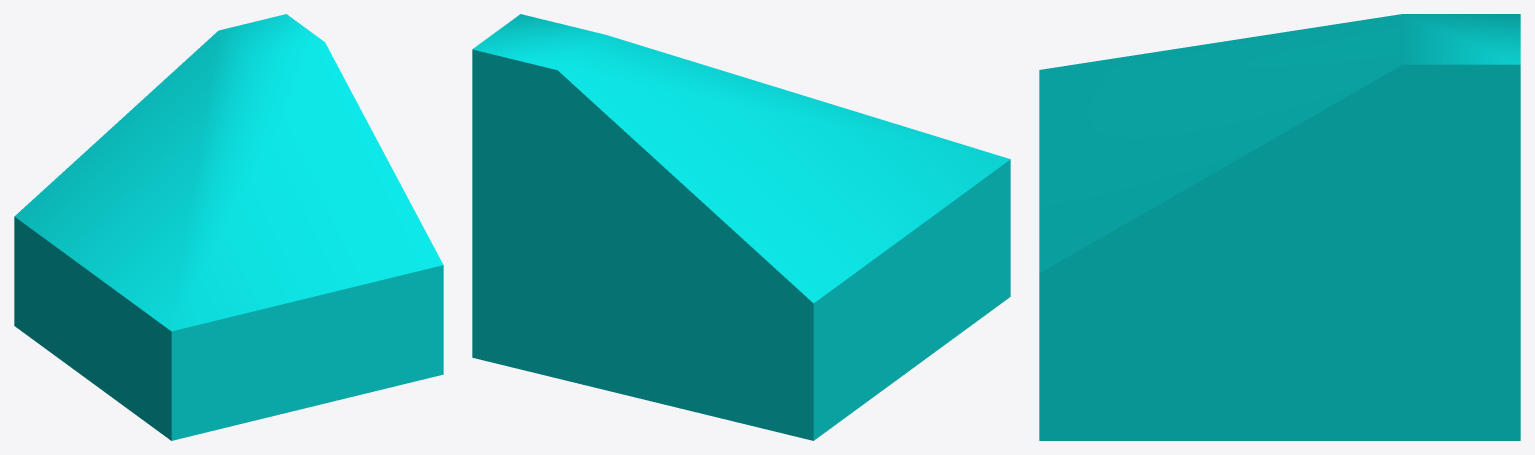
Rendered from SM_Bld_Stair_Corner_02_Collision.fbx.
3 renders of one model, left to right at view 1: azimuth 30°, elevation 25°; view 2: azimuth 150°, elevation 25°; view 3: azimuth 270°, elevation 25°, orthographic. The views are drawn at different scales.
Parts seen in each view (by area): view 1: SM_Bld_Stair_Corner_02_Collision; view 2: SM_Bld_Stair_Corner_02_Collision; view 3: SM_Bld_Stair_Corner_02_Collision.
Boxes of the visible parts, x1,y1,x2,y2 form: SM_Bld_Stair_Corner_02_Collision: [14, 14, 443, 440]; SM_Bld_Stair_Corner_02_Collision: [472, 14, 1010, 440]; SM_Bld_Stair_Corner_02_Collision: [1039, 14, 1520, 440].
Bounding box in the file's own units: 125 × 108 × 125.
